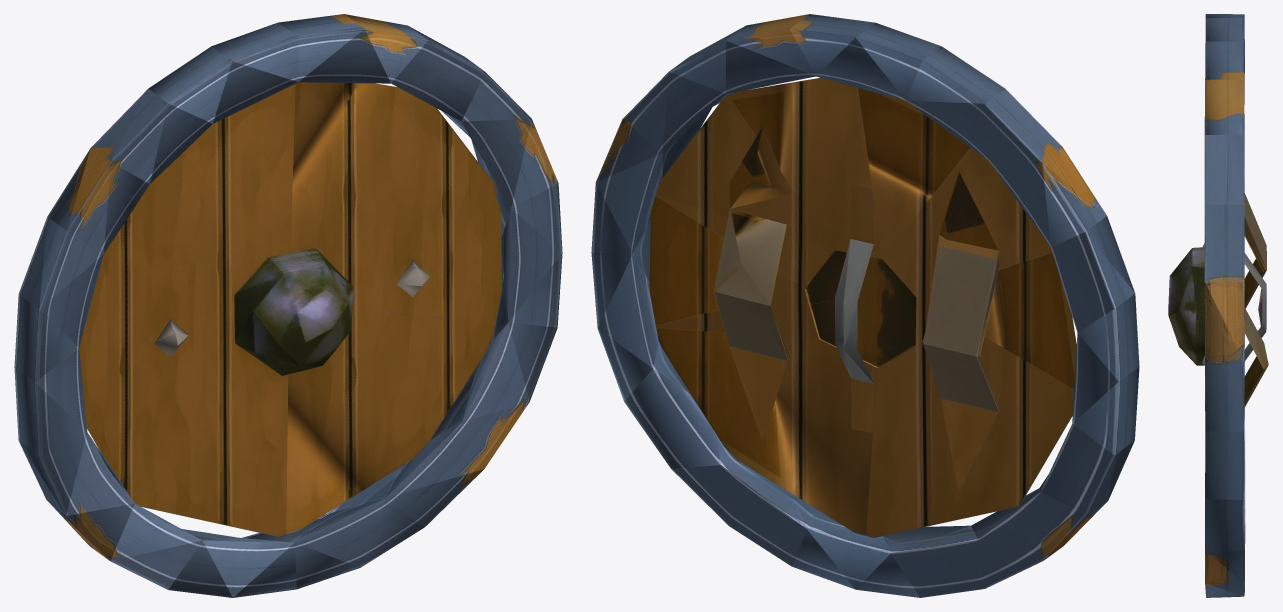
Rendered from shield_ironwood.glb.
The picture shows the model from 3 angles, left to right: view 1: azimuth 30°, elevation 25°; view 2: azimuth 150°, elevation 25°; view 3: azimuth 270°, elevation 25°; orthographic projection. The views are drawn at different scales.
Size of the model in its own units: 1 by 1 by 0.1729.
Materials: 1 (1 with a texture image).
